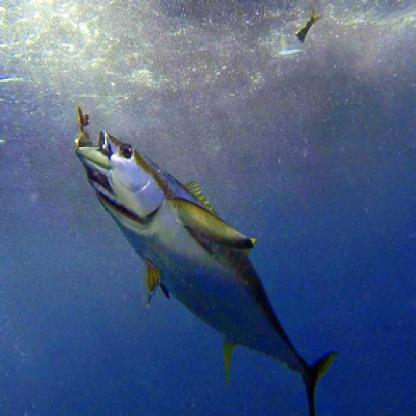tuna: (69, 126, 339, 416)
